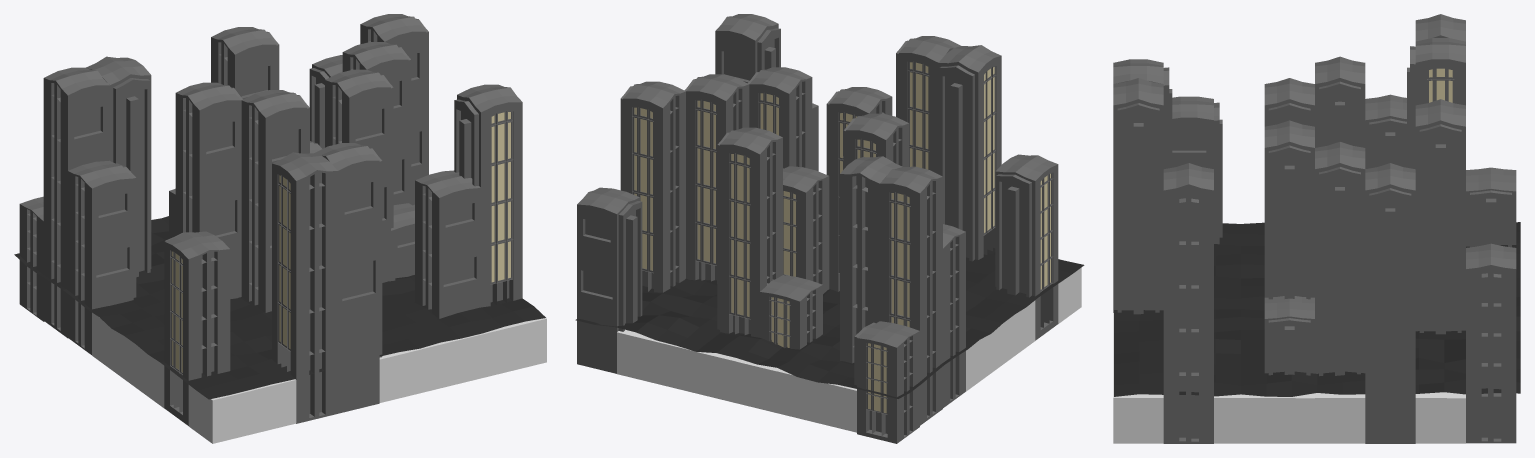
File: levelOne-04.fbx
3 renders of one model, left to right at view 1: azimuth 30°, elevation 25°; view 2: azimuth 150°, elevation 25°; view 3: azimuth 270°, elevation 25°, orthographic. The views are drawn at different scales.
Parts seen in each view (by area): view 1: Floor, Cube.019, Cube.027, Cube.023, Cube.008, Cube.009, Cube.004, Cube.060, Cube.052, Cube.030, Cube.017, Cube.046 (+18 smaller); view 2: Floor, Cube.019, Cube.041, Cube.009, Cube.066, Cube.064, Cube.004, Cube.017, Cube.055, Cube.010, Cube.039, Cube.046 (+26 smaller); view 3: Floor, Cube.064, Cube.060, Cube.027, Cube.041, Cube.055, Cube.066, Cube.046, Cube.023, Cube.004, Cube.010, Cube.054 (+11 smaller).
Boxes of the visible parts, x1,y1,x2,y2 form: Floor: (14, 216, 545, 399); Cube.019: (272, 152, 337, 423); Cube.027: (314, 143, 382, 413); Cube.023: (175, 82, 242, 298); Cube.008: (68, 160, 136, 354); Cube.009: (43, 67, 109, 338); Cube.004: (164, 231, 230, 425); Cube.060: (454, 84, 522, 307); Cube.052: (415, 170, 480, 318); Cube.030: (241, 90, 309, 312); Cube.017: (86, 56, 151, 277); Cube.046: (325, 69, 393, 282); Floor: (575, 247, 1084, 398); Cube.019: (938, 45, 1001, 261); Cube.041: (717, 127, 782, 337); Cube.009: (880, 166, 942, 425); Cube.066: (577, 187, 642, 373); Cube.064: (620, 81, 685, 292); Cube.004: (995, 154, 1058, 340); Cube.017: (840, 156, 902, 363); Cube.055: (684, 74, 749, 283); Cube.010: (854, 321, 919, 443); Cube.039: (783, 166, 829, 293); Cube.046: (747, 67, 812, 169); Floor: (1114, 222, 1520, 396); Cube.064: (1365, 163, 1415, 443); Cube.060: (1163, 163, 1213, 443); Cube.027: (1113, 78, 1163, 314); Cube.041: (1415, 99, 1465, 334); Cube.055: (1315, 142, 1365, 376); Cube.066: (1466, 243, 1516, 443); Cube.046: (1264, 120, 1314, 299); Cube.023: (1315, 56, 1365, 147); Cube.004: (1172, 96, 1222, 244); Cube.010: (1466, 167, 1516, 247); Cube.054: (1264, 296, 1314, 375).
Size of the model in its own units: 1651 by 1149 by 1617.
